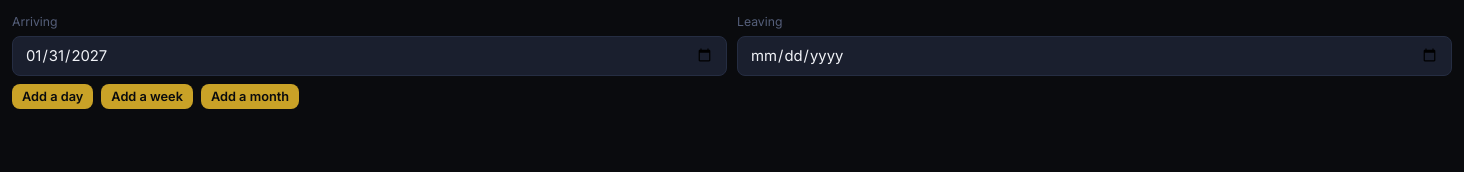
Scenario: Add a month pressed twice from the end of a month › Jan 31 → Feb 28 → Mar 31 (59 nights)
The image size is (1464, 172).
Click the button "Add a month" at coordinates (250, 96), box [201, 84, 299, 109]
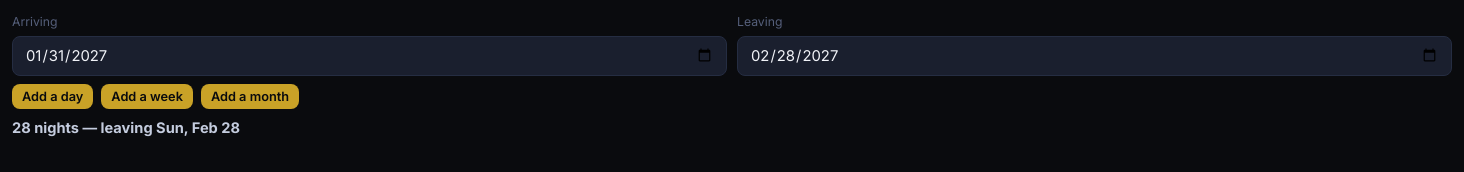
Click the button "Add a month" at coordinates (250, 96), box [201, 84, 299, 109]
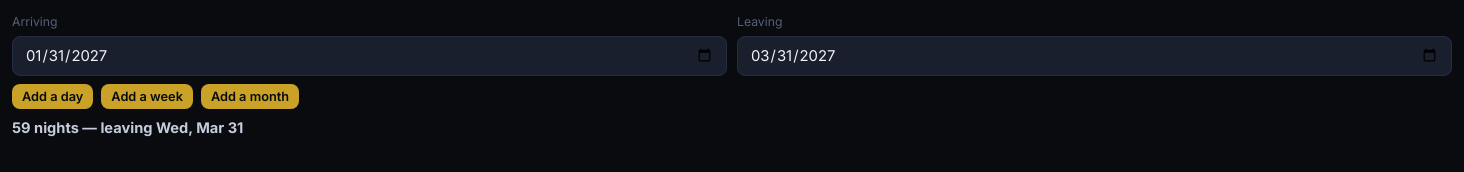
Check: the text with test id "resv-nights" reads "59 nights — leaving Wed, Mar 31", box [12, 119, 243, 137]
